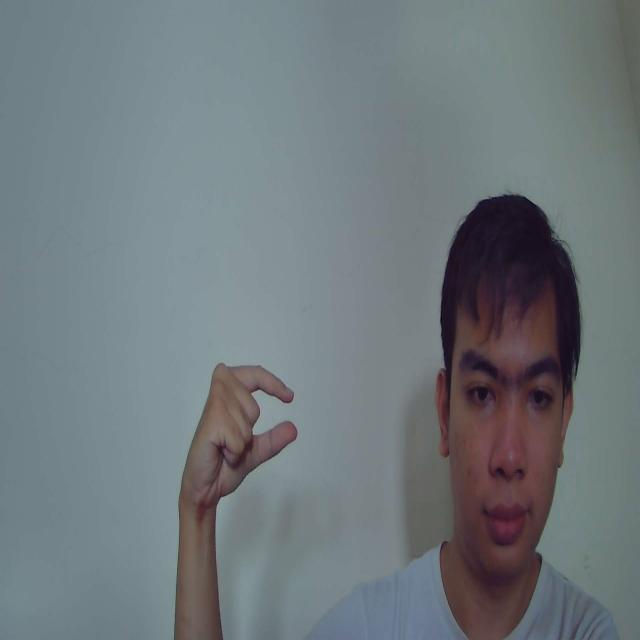G: (179, 359, 300, 505)
